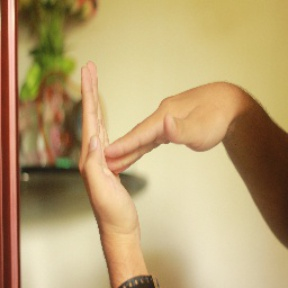Z: (70, 48, 240, 229)
